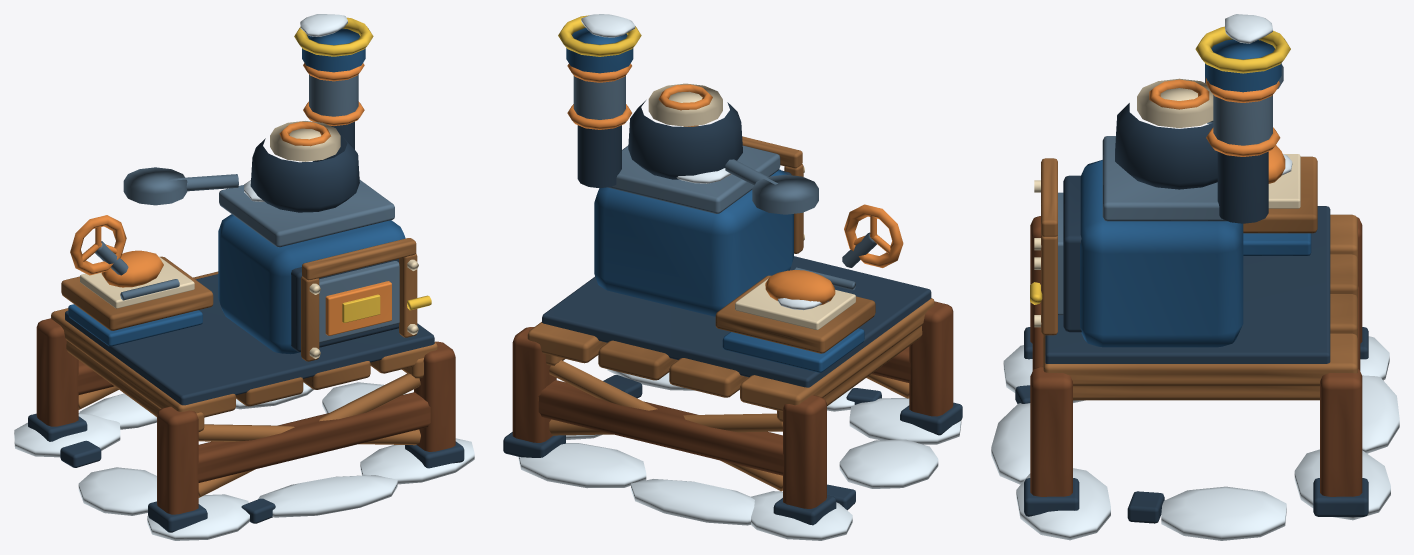
Rendered from cooker_processor.glb.
3 renders of one model, left to right at view 1: azimuth 30°, elevation 25°; view 2: azimuth 150°, elevation 25°; view 3: azimuth 270°, elevation 25°, orthographic. The views are drawn at different scales.
Visible parts, largest first — view 1: cooker_processor; view 2: cooker_processor; view 3: cooker_processor.
Part boxes in pixels (left/top/right/bottom): cooker_processor: left=14, top=14, right=474, bottom=540; cooker_processor: left=503, top=14, right=962, bottom=540; cooker_processor: left=991, top=14, right=1399, bottom=540.
Size of the model in its own units: 2.28 by 2.51 by 1.92.
